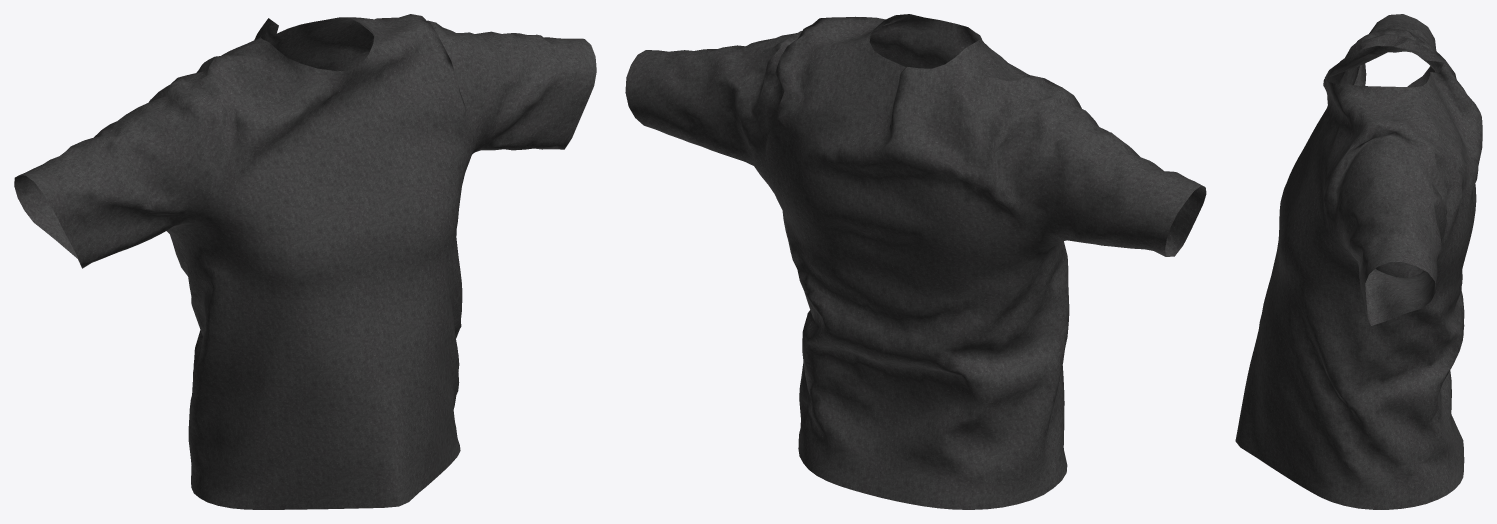
Rendered from smallfart-tshirt.obj.
3 views of the same model, side by side, from view 1: azimuth 30°, elevation 25°; view 2: azimuth 150°, elevation 25°; view 3: azimuth 270°, elevation 25° (orthographic). The views are drawn at different scales.
Bounding box in the file's own units: 804 × 595 × 338.
1 material, 1 textured.
